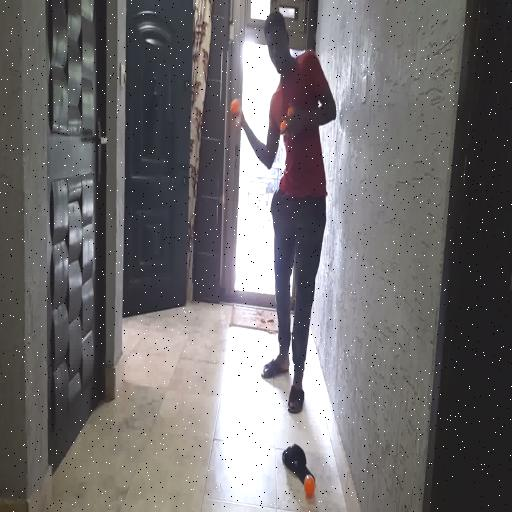plastic-ball: (230, 95, 241, 117)
